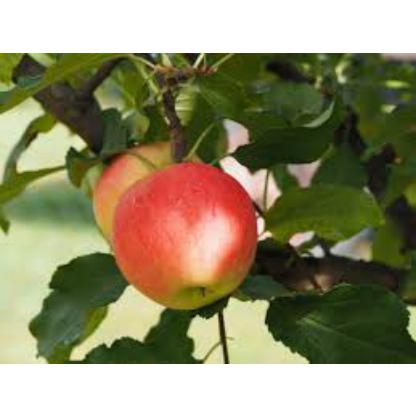apple: (116, 164, 258, 310), (93, 142, 197, 244)
